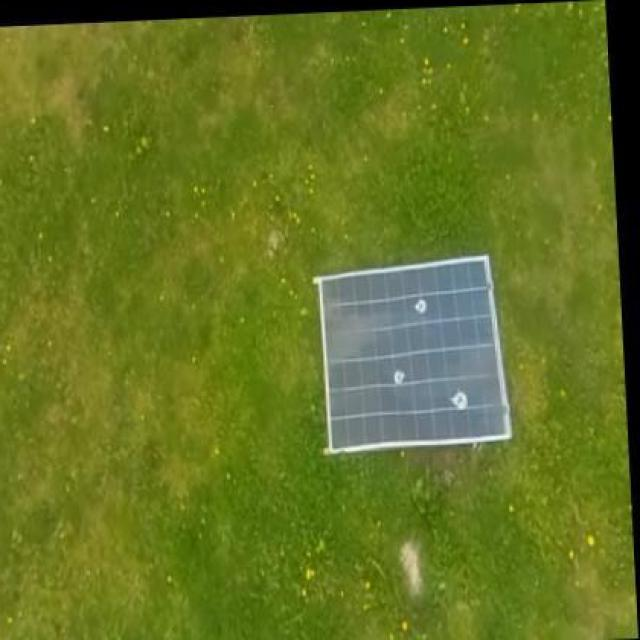soiled: (310, 253, 508, 460)
